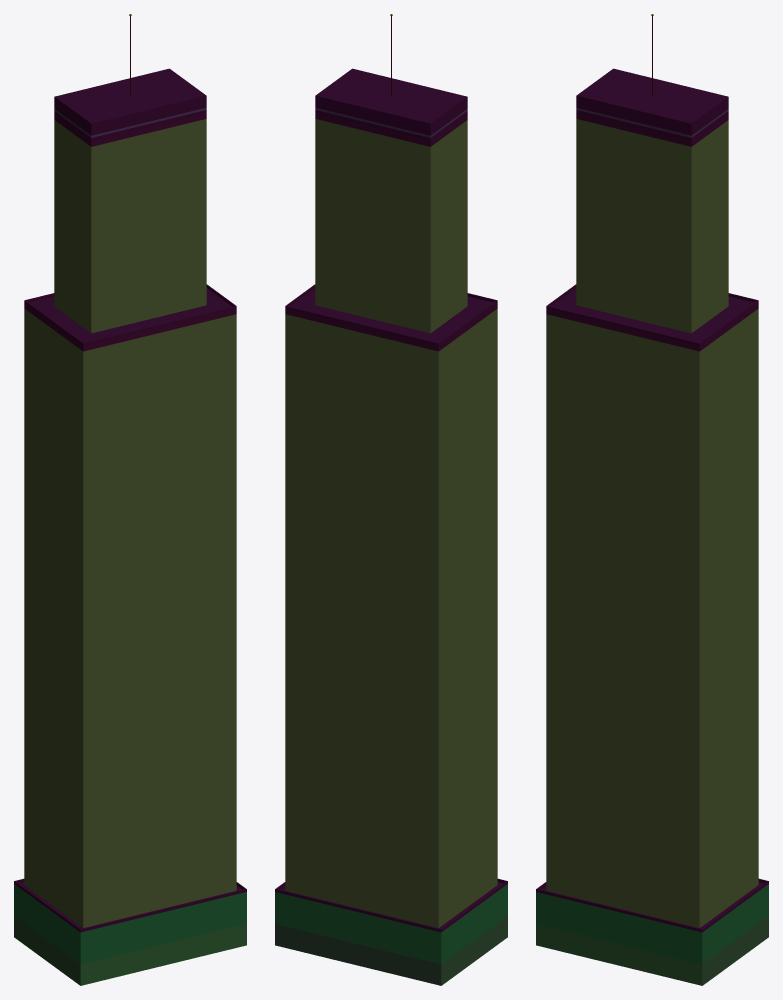
Rendered from tower_b.glb.
3 views of the same model, side by side, from view 1: azimuth 30°, elevation 25°; view 2: azimuth 150°, elevation 25°; view 3: azimuth 330°, elevation 25° (orthographic).
Visible parts, largest first — view 1: tower_b; view 2: tower_b; view 3: tower_b.
Boxes of the visible parts, x1,y1,x2,y2 form: tower_b: (14, 14, 246, 985); tower_b: (275, 14, 507, 985); tower_b: (536, 14, 768, 985).
Size of the model in its own units: 39 by 208 by 27.
